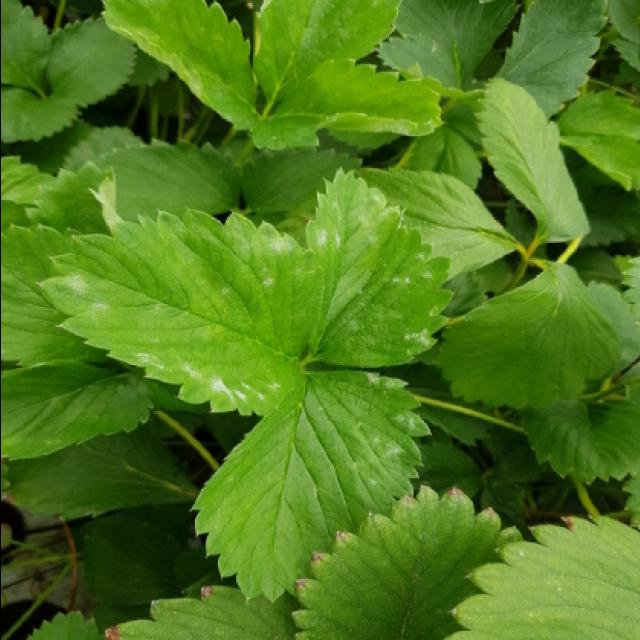Powdery Mildew Leaf: (33, 204, 315, 418), (190, 370, 435, 605), (304, 163, 456, 369)
